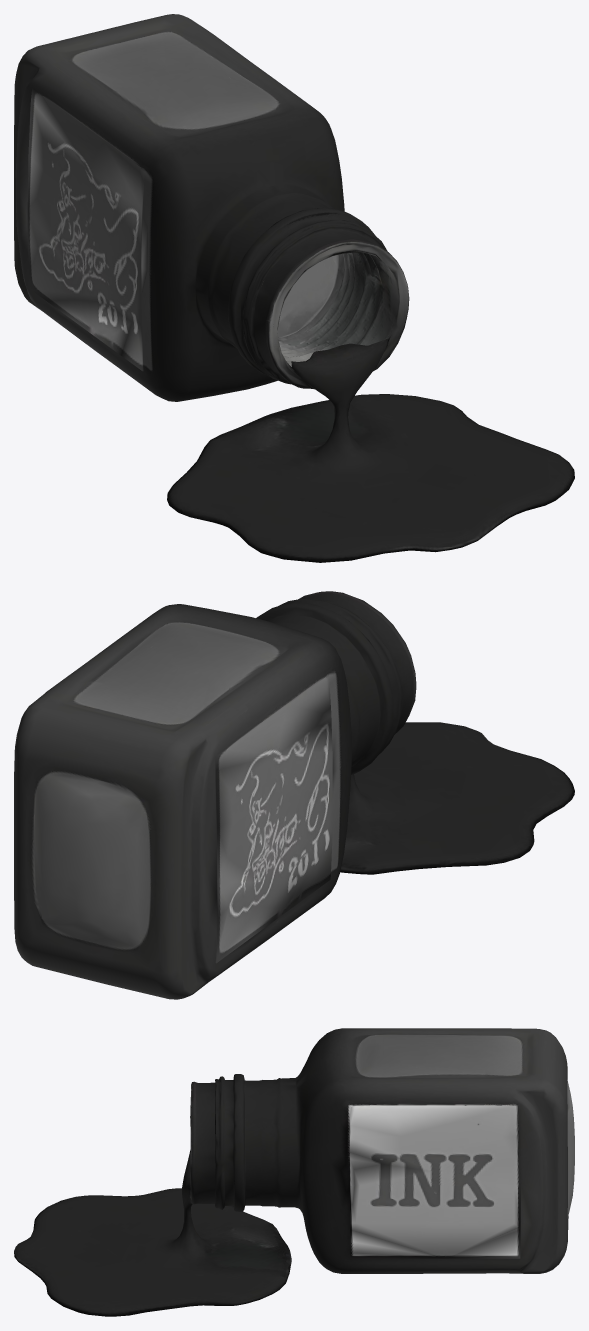
File: INKBottle1.fbx
The picture shows the model from 3 angles, top to bottom: view 1: azimuth 30°, elevation 25°; view 2: azimuth 150°, elevation 25°; view 3: azimuth 270°, elevation 25°; orthographic projection. The views are drawn at different scales.
Visible parts, largest first — view 1: tripo_node_5768fb92, Puddle; view 2: tripo_node_5768fb92, Puddle; view 3: tripo_node_5768fb92, Puddle.
Part boxes in pixels (x1=…): tripo_node_5768fb92: x1=14, y1=14, x2=409, y2=401; Puddle: x1=167, y1=338, x2=574, y2=562; tripo_node_5768fb92: x1=14, y1=591, x2=416, y2=999; Puddle: x1=340, y1=722, x2=574, y2=874; tripo_node_5768fb92: x1=190, y1=1028, x2=574, y2=1273; Puddle: x1=14, y1=1150, x2=291, y2=1316.
Bounding box in the file's own units: 21.06 × 39.37 × 15.86.
1 material, 1 textured.
